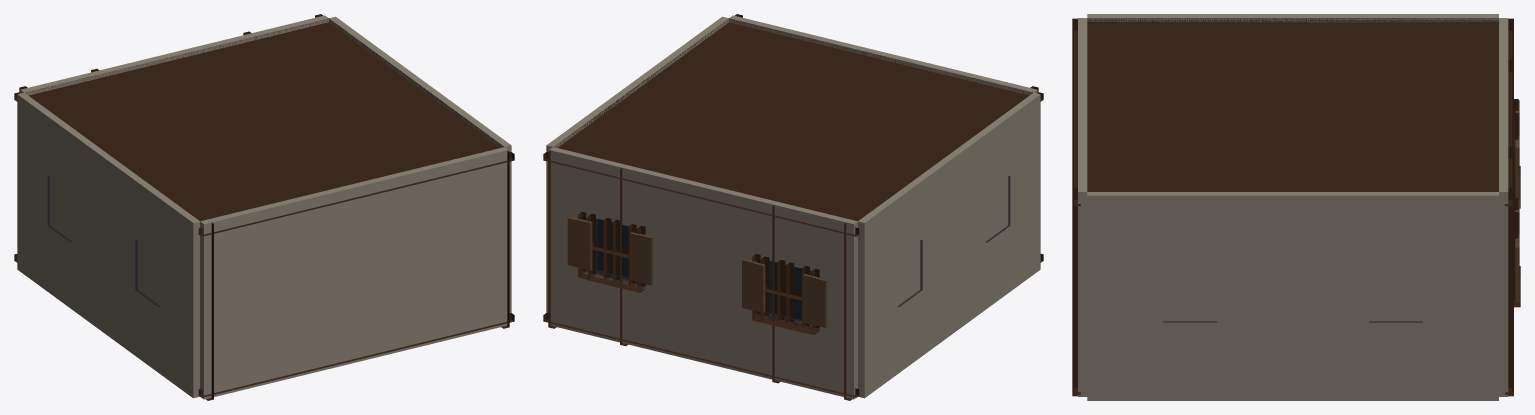
File: GalakasMidCity_UPR_W04D04_BrickTimber_02.obj
3 views of the same model, side by side, from view 1: azimuth 30°, elevation 25°; view 2: azimuth 150°, elevation 25°; view 3: azimuth 270°, elevation 25° (orthographic). The views are drawn at different scales.
Parts seen in each view (by area): view 1: upper_back_wall, upper_ceiling_cap, upper_left_wall, upper_front_wall, upper_right_wall, upper_back_course_18, upper_back_course_422, upper_back_post_3_9, upper_back_post_-3_9; view 2: upper_ceiling_cap, upper_front_wall, upper_left_wall, upper_back_wall, upper_right_wall, upper_front_course_18, upper_front_course_422, upper_front_window_0_glass, upper_front_window_1_glass, upper_front_window_1_shutter_r, upper_front_window_1_shutter_l, upper_upper_front_window_0_shutter_l (+15 smaller); view 3: upper_right_wall, upper_ceiling_cap, upper_back_wall, upper_front_wall, upper_left_wall, upper_front_post_3_9, upper_back_post_3_9, upper_front_course_422, upper_back_course_422.
Boxes of the visible parts, x1,y1,x2,y2 form: upper_back_wall: [200, 147, 508, 399]; upper_ceiling_cap: [26, 18, 502, 221]; upper_left_wall: [17, 92, 199, 398]; upper_front_wall: [20, 15, 328, 95]; upper_right_wall: [329, 16, 511, 313]; upper_back_course_18: [198, 313, 514, 397]; upper_back_course_422: [198, 152, 514, 236]; upper_back_post_3_9: [501, 150, 509, 328]; upper_back_post_-3_9: [206, 223, 213, 400]; upper_ceiling_cap: [555, 19, 1032, 221]; upper_front_wall: [549, 147, 857, 399]; upper_left_wall: [858, 92, 1040, 398]; upper_back_wall: [729, 15, 1037, 95]; upper_right_wall: [546, 16, 728, 313]; upper_front_course_18: [543, 313, 859, 397]; upper_front_course_422: [543, 152, 859, 236]; upper_front_window_0_glass: [760, 260, 801, 321]; upper_front_window_1_glass: [596, 219, 637, 279]; upper_front_window_1_shutter_r: [577, 219, 592, 270]; upper_front_window_1_shutter_l: [638, 234, 653, 285]; upper_upper_front_window_0_shutter_l: [812, 277, 827, 327]; upper_right_wall: [1087, 192, 1498, 400]; upper_ceiling_cap: [1087, 18, 1498, 191]; upper_back_wall: [1078, 18, 1087, 396]; upper_front_wall: [1499, 18, 1508, 396]; upper_left_wall: [1087, 14, 1498, 22]; upper_front_post_3_9: [1508, 187, 1513, 396]; upper_back_post_3_9: [1072, 187, 1077, 396]; upper_front_course_422: [1505, 31, 1512, 206]; upper_back_course_422: [1074, 31, 1080, 206].
Bounding box in the file's own units: 8.48 × 4.4 × 8.71.
